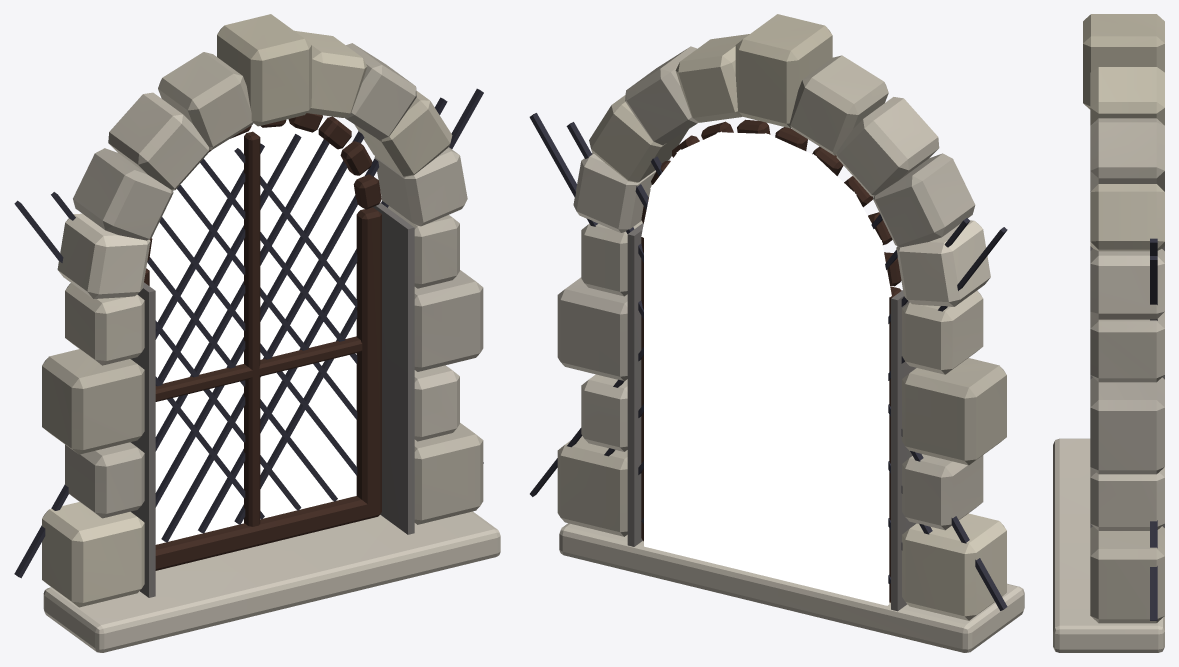
Rendered from window_frame.glb.
3 views of the same model, side by side, from view 1: azimuth 30°, elevation 25°; view 2: azimuth 150°, elevation 25°; view 3: azimuth 270°, elevation 25° (orthographic). The views are drawn at different scales.
Visible parts, largest first — view 1: Frame, Glow; view 2: Frame, Glow; view 3: Frame.
Boxes of the visible parts, bbox=[...] form: Frame: bbox=[14, 14, 500, 652]; Glow: bbox=[146, 118, 364, 544]; Frame: bbox=[529, 14, 1024, 652]; Glow: bbox=[641, 131, 891, 605]; Frame: bbox=[1053, 14, 1164, 652].
Bounding box in the file's own units: 1.4 × 1.58 × 0.3.
